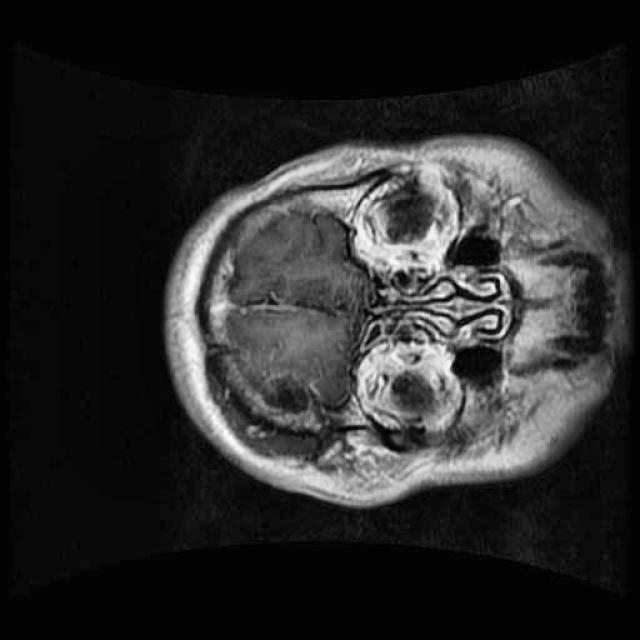Tumor: (259, 358, 327, 432)
